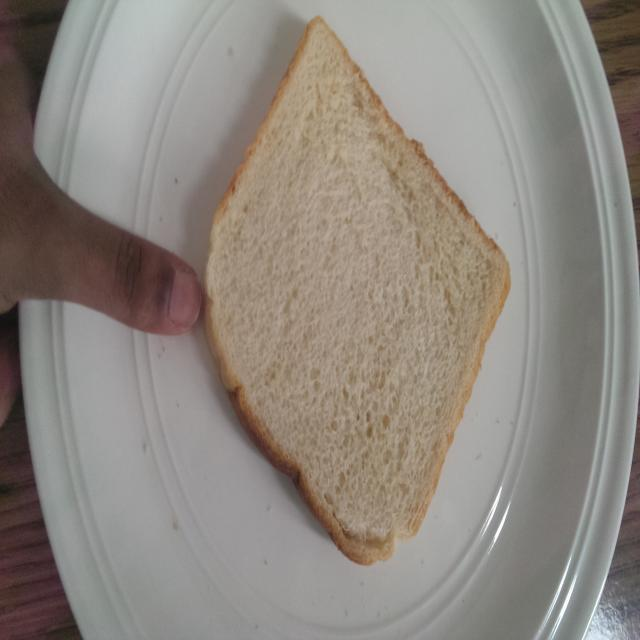Bread: (199, 11, 517, 575)
Finger: (85, 196, 204, 355)
